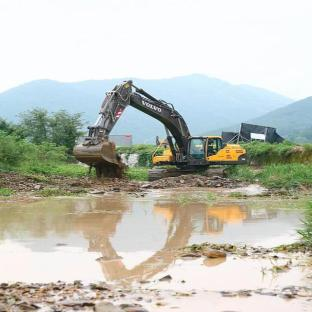ExcavationMachinery: (65, 76, 247, 188)
